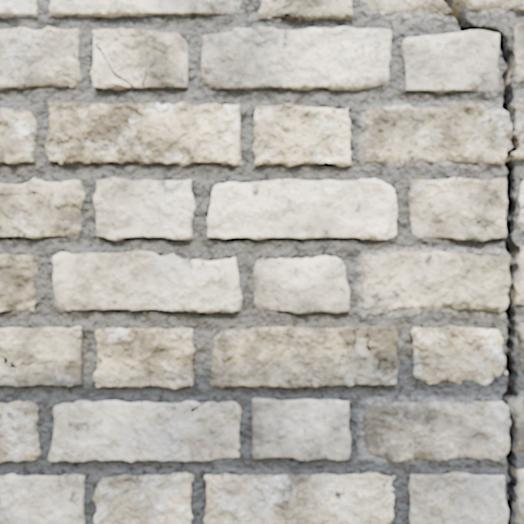brick: (46, 102, 240, 165), (201, 27, 390, 90), (53, 251, 241, 312), (49, 401, 240, 461), (207, 179, 396, 239), (210, 326, 398, 386), (204, 473, 394, 523), (94, 178, 194, 240), (408, 178, 506, 241), (93, 328, 194, 388), (253, 104, 350, 166), (252, 399, 349, 460), (402, 31, 497, 93), (93, 29, 187, 88), (411, 326, 503, 384), (254, 256, 348, 312), (0, 27, 80, 89), (0, 178, 84, 237), (409, 472, 506, 523), (94, 473, 192, 523), (0, 327, 82, 385), (0, 474, 83, 523), (50, 0, 240, 16), (0, 401, 39, 461), (0, 255, 36, 311), (0, 108, 36, 163), (259, 0, 352, 21), (91, 46, 130, 89), (0, 0, 37, 17), (513, 24, 523, 81), (516, 469, 523, 523), (518, 182, 523, 229), (518, 324, 523, 366)
broken_brick: (362, 102, 510, 165), (360, 250, 508, 312), (362, 400, 508, 462), (366, 0, 450, 15), (457, 0, 523, 13), (514, 102, 523, 160), (516, 396, 523, 451), (516, 250, 523, 304)
crack: (442, 0, 521, 523), (94, 42, 135, 88), (0, 354, 58, 372), (365, 326, 387, 371), (337, 327, 361, 367), (141, 61, 155, 87), (0, 190, 43, 196), (189, 402, 204, 412), (283, 11, 299, 19), (521, 196, 523, 209)
